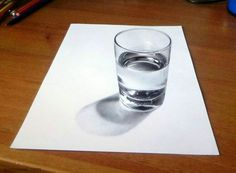glass of water: (113, 29, 172, 112)
